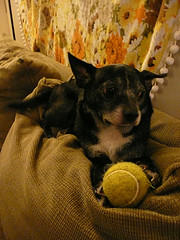tennis ball: (102, 160, 150, 208)
